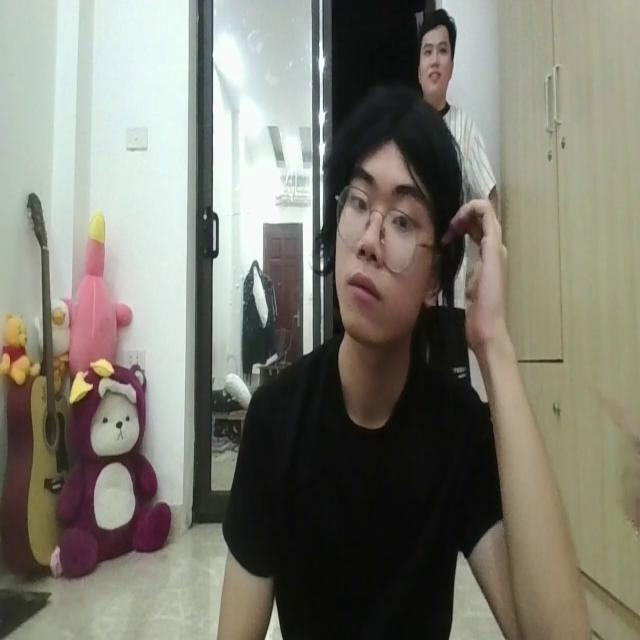extra_person: (419, 12, 509, 205)
student: (218, 74, 589, 640)
